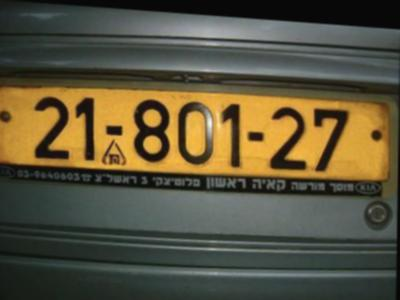License_Plate: (17, 87, 358, 181)
